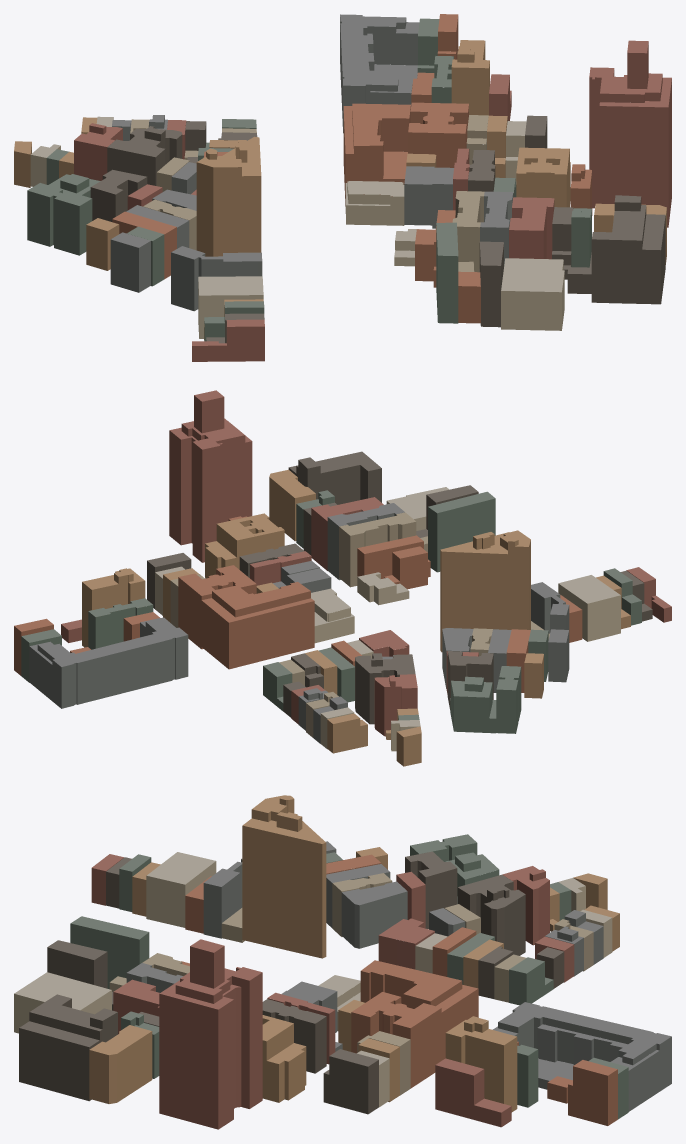
File: tile--2_-1.glb
3 views of the same model, one above another, from view 1: azimuth 30°, elevation 25°; view 2: azimuth 150°, elevation 25°; view 3: azimuth 270°, elevation 25° (orthographic). The views are drawn at different scales.
Visible parts, largest first — view 1: wall, roof; view 2: wall, roof; view 3: wall, roof.
Boxes of the visible parts, x1,y1,x2,y2 form: wall: (14, 16, 671, 361); roof: (14, 14, 671, 345); wall: (14, 395, 671, 766); roof: (14, 390, 671, 736); wall: (14, 798, 671, 1129); roof: (14, 795, 671, 1112).
Size of the model in its own units: 213 by 68.02 by 231.
